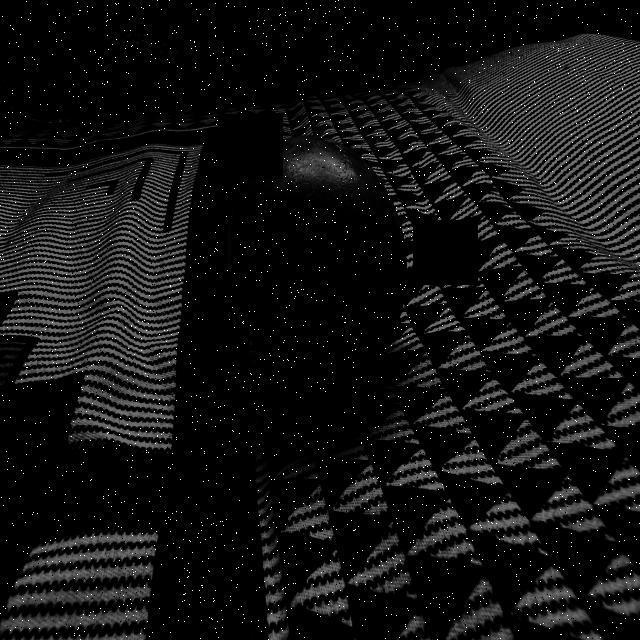egg: (218, 130, 412, 388)
